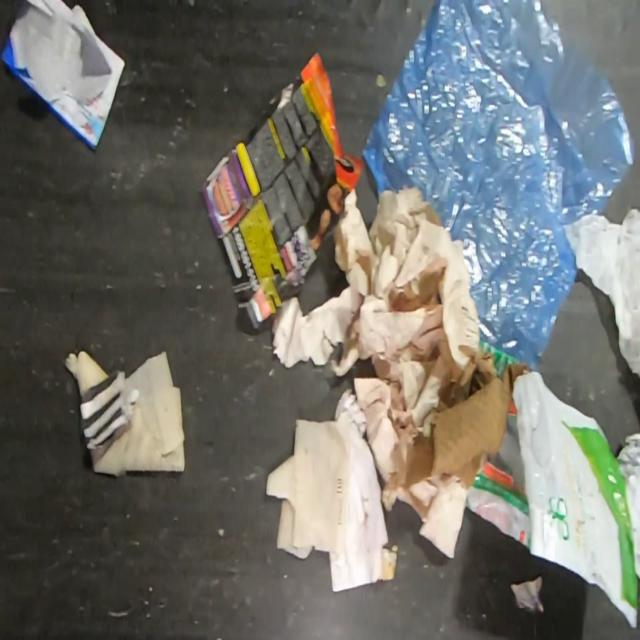cardboard: (422, 338, 533, 549)
soft_plastic: (362, 0, 636, 371), (512, 371, 638, 630)
